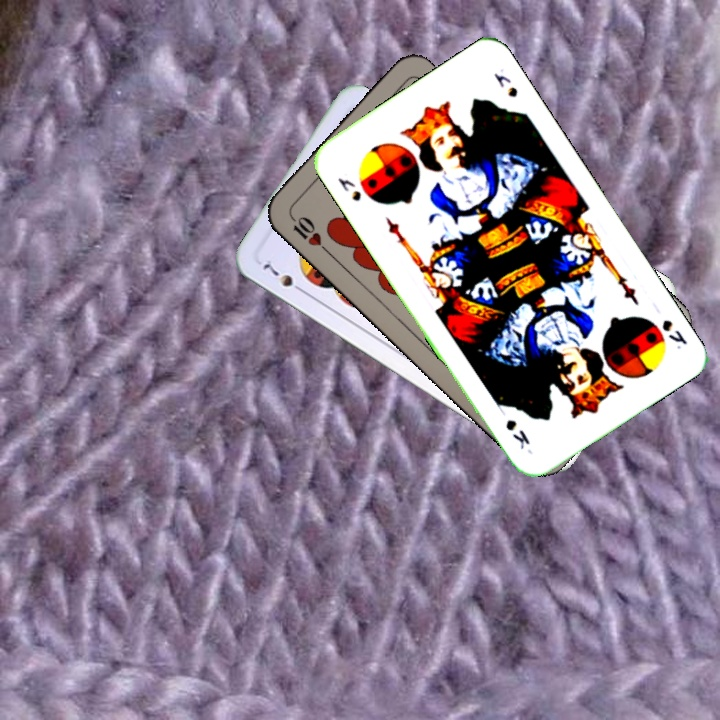H10: (285, 210, 332, 256)
S7: (259, 255, 308, 297)
SK: (658, 315, 690, 352), (333, 173, 364, 204)
